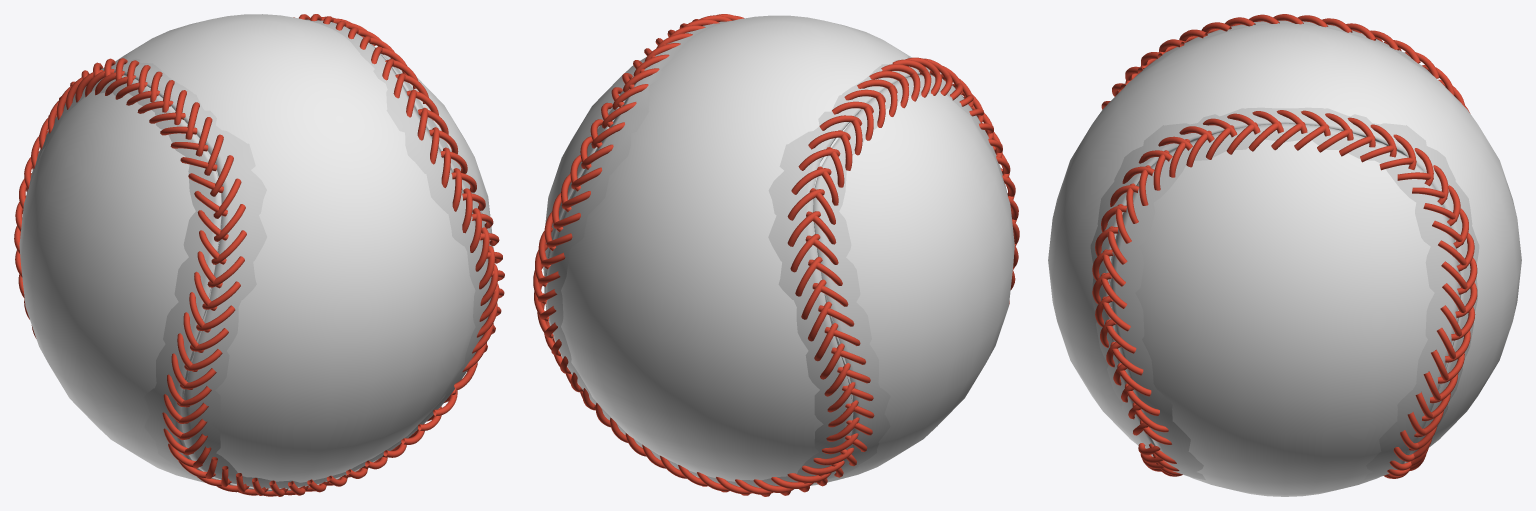
Rendered from baseball_withcolor.fbx.
The picture shows the model from 3 angles, left to right: view 1: azimuth 30°, elevation 25°; view 2: azimuth 150°, elevation 25°; view 3: azimuth 270°, elevation 25°; orthographic projection.
Parts seen in each view (by area): view 1: Sphere_001, ball, stitches; view 2: Sphere_001, ball, stitches; view 3: Sphere_001, ball, stitches.
Boxes of the visible parts, x1,y1,x2,y2 form: Sphere_001: (19,14,493,482); ball: (26,19,491,491); stitches: (14,14,504,496); Sphere_001: (543,15,1014,485); ball: (544,21,1007,487); stitches: (533,14,1019,496); Sphere_001: (1048,23,1521,496); ball: (1090,20,1479,479); stitches: (1092,14,1477,478).
Bounding box in the file's own units: 2 × 2 × 2.
